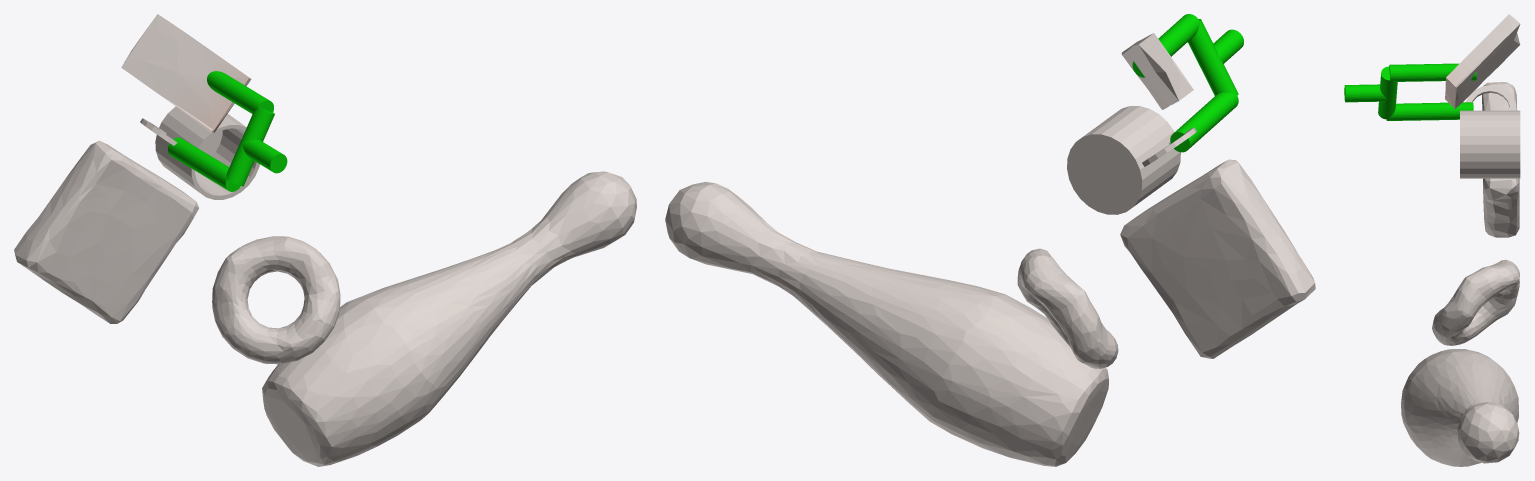
Rendered from round_000_trial_000.obj.
3 views of the same model, side by side, from view 1: azimuth 30°, elevation 25°; view 2: azimuth 150°, elevation 25°; view 3: azimuth 270°, elevation 25° (orthographic). The views are drawn at different scales.
Visible parts, largest first — view 1: geometry_0, geometry_1; view 2: geometry_0, geometry_1; view 3: geometry_0, geometry_1.
Part boxes in pixels (x1,y1,x2,y2): geometry_0: (14,14,636,466); geometry_1: (168,71,287,191); geometry_0: (665,33,1315,466); geometry_1: (1132,14,1243,152); geometry_0: (1401,14,1520,466); geometry_1: (1344,63,1476,120).
Bounding box in the file's own units: 0.3376 × 0.242 × 0.1016.
